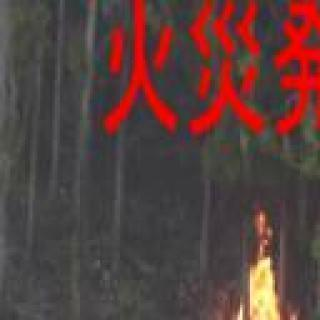fire: (183, 212, 319, 320)
